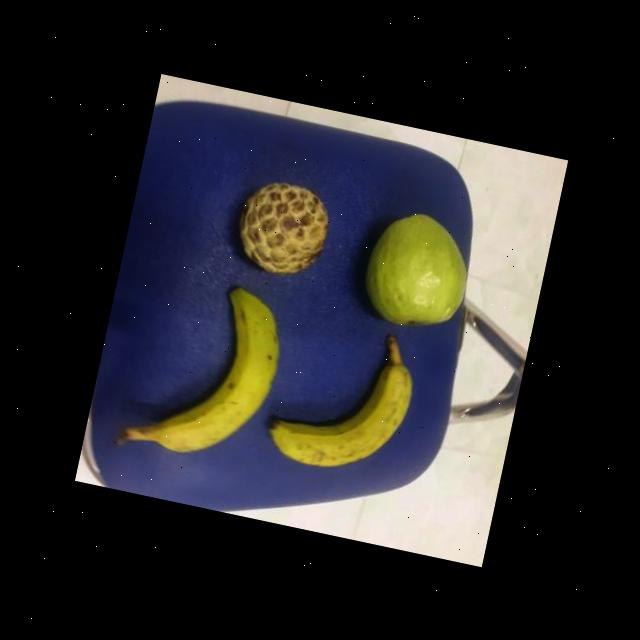Sakya fruit: (228, 170, 336, 282)
banana: (139, 265, 291, 464), (264, 310, 422, 483)
guava: (354, 204, 480, 336)
